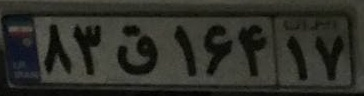character: (110, 23, 166, 80), (199, 17, 236, 86), (71, 19, 110, 81), (235, 17, 271, 81), (38, 22, 74, 80), (168, 20, 201, 81), (311, 31, 347, 83), (283, 34, 311, 82)
